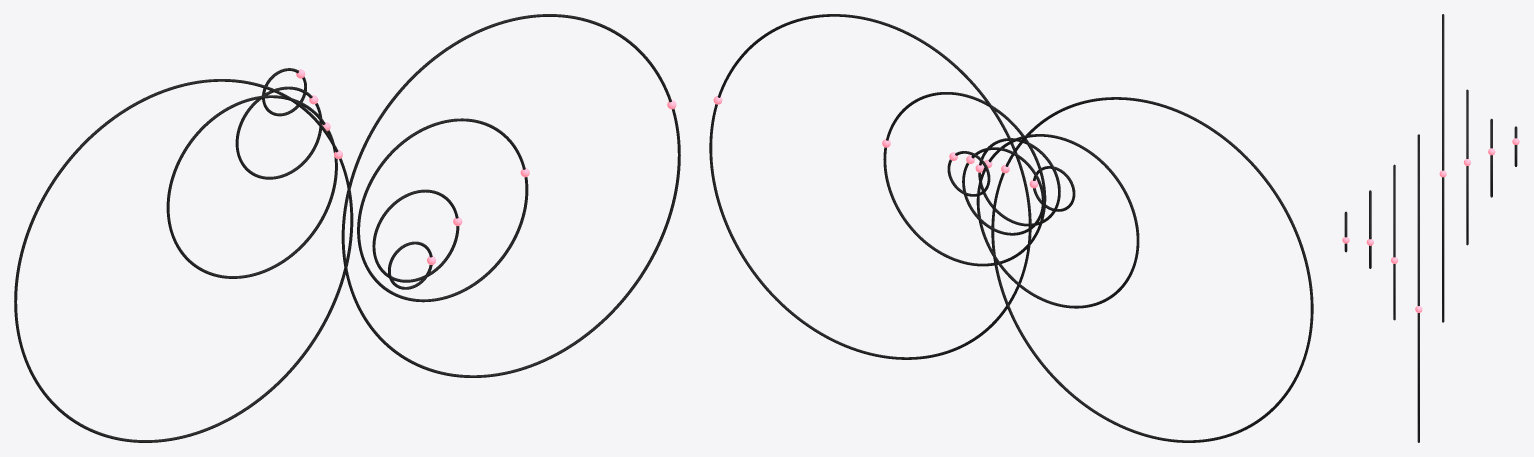
The model's file is 3dharmonics.glb.
3 views of the same model, side by side, from view 1: azimuth 30°, elevation 25°; view 2: azimuth 150°, elevation 25°; view 3: azimuth 270°, elevation 25° (orthographic). The views are drawn at different scales.
Parts seen in each view (by area): view 1: Circle_1, Circle_5, Circle_2, Circle_6, Circle_3, Circle_7; view 2: Circle_5, Circle_1, Circle_6, Circle_2, Circle_7, Circle_3; view 3: Circle_5, Circle_1, Circle_2, Circle_6, Circle_3, Circle_7.
Part boxes in pixels (box(x1,y1,x2,y2)): Circle_1: box(341, 14, 680, 377); Circle_5: box(14, 79, 353, 442); Circle_2: box(357, 118, 528, 302); Circle_6: box(166, 95, 337, 278); Circle_3: box(372, 189, 459, 282); Circle_7: box(235, 86, 322, 179); Circle_5: box(991, 97, 1313, 442); Circle_1: box(709, 14, 1031, 359); Circle_6: box(976, 134, 1139, 308); Circle_2: box(883, 92, 1046, 266); Circle_7: box(962, 147, 1044, 235); Circle_3: box(978, 138, 1060, 226); Circle_5: box(1442, 14, 1444, 322); Circle_1: box(1417, 134, 1419, 442); Circle_2: box(1393, 164, 1395, 320); Circle_6: box(1466, 89, 1468, 245); Circle_3: box(1369, 190, 1371, 268); Circle_7: box(1490, 118, 1492, 197).
Bounding box in the file's own units: 14.66 × 7.63 × 4.38.
